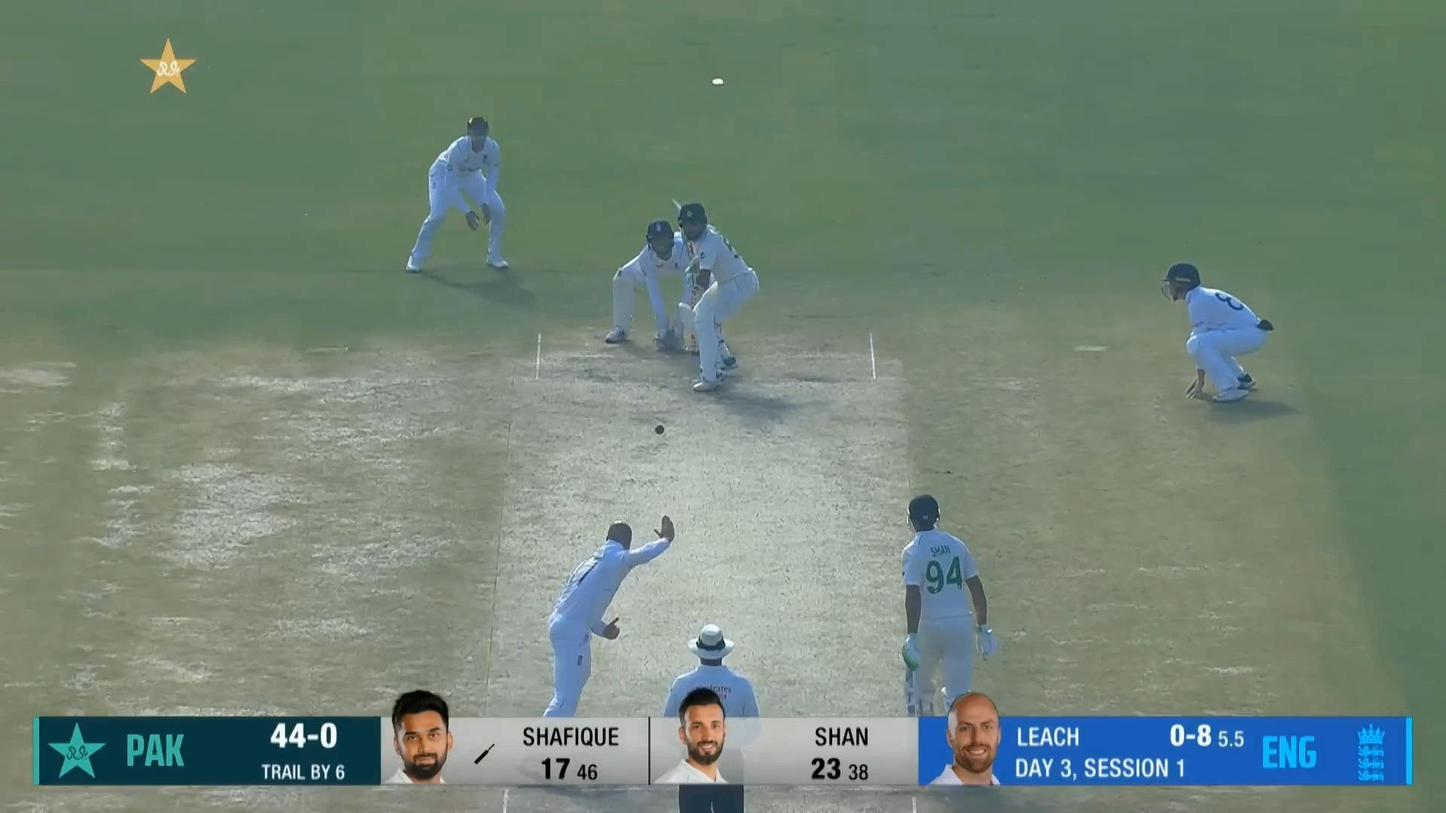BM 1: (671, 195, 759, 393)
BO: (542, 515, 677, 717)
